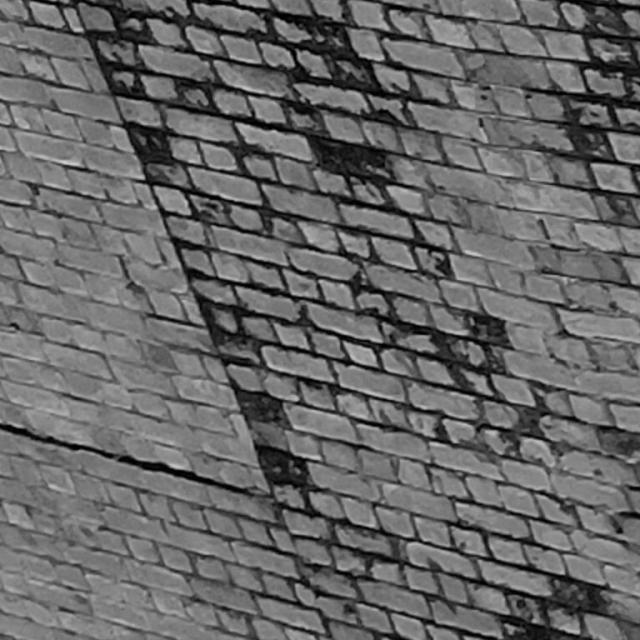crack: (1, 425, 254, 497)
